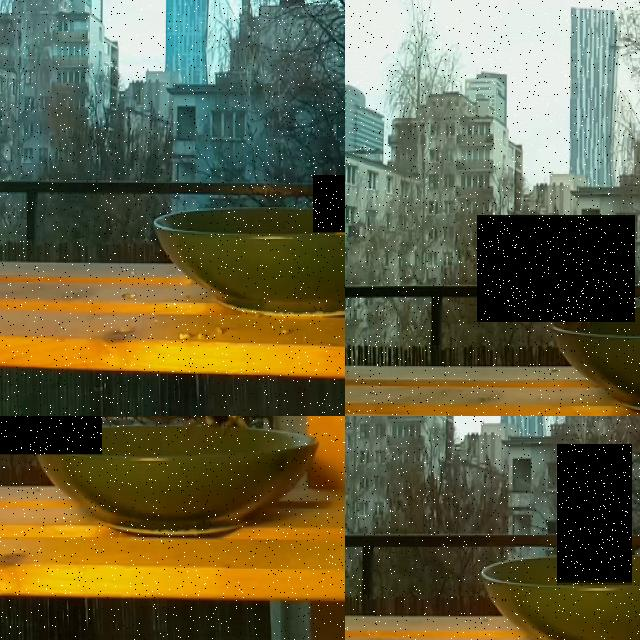Bogatka: (178, 416, 256, 437)
Modraszka: (313, 174, 345, 232)
Wrobel: (477, 215, 635, 322), (557, 444, 632, 584)
